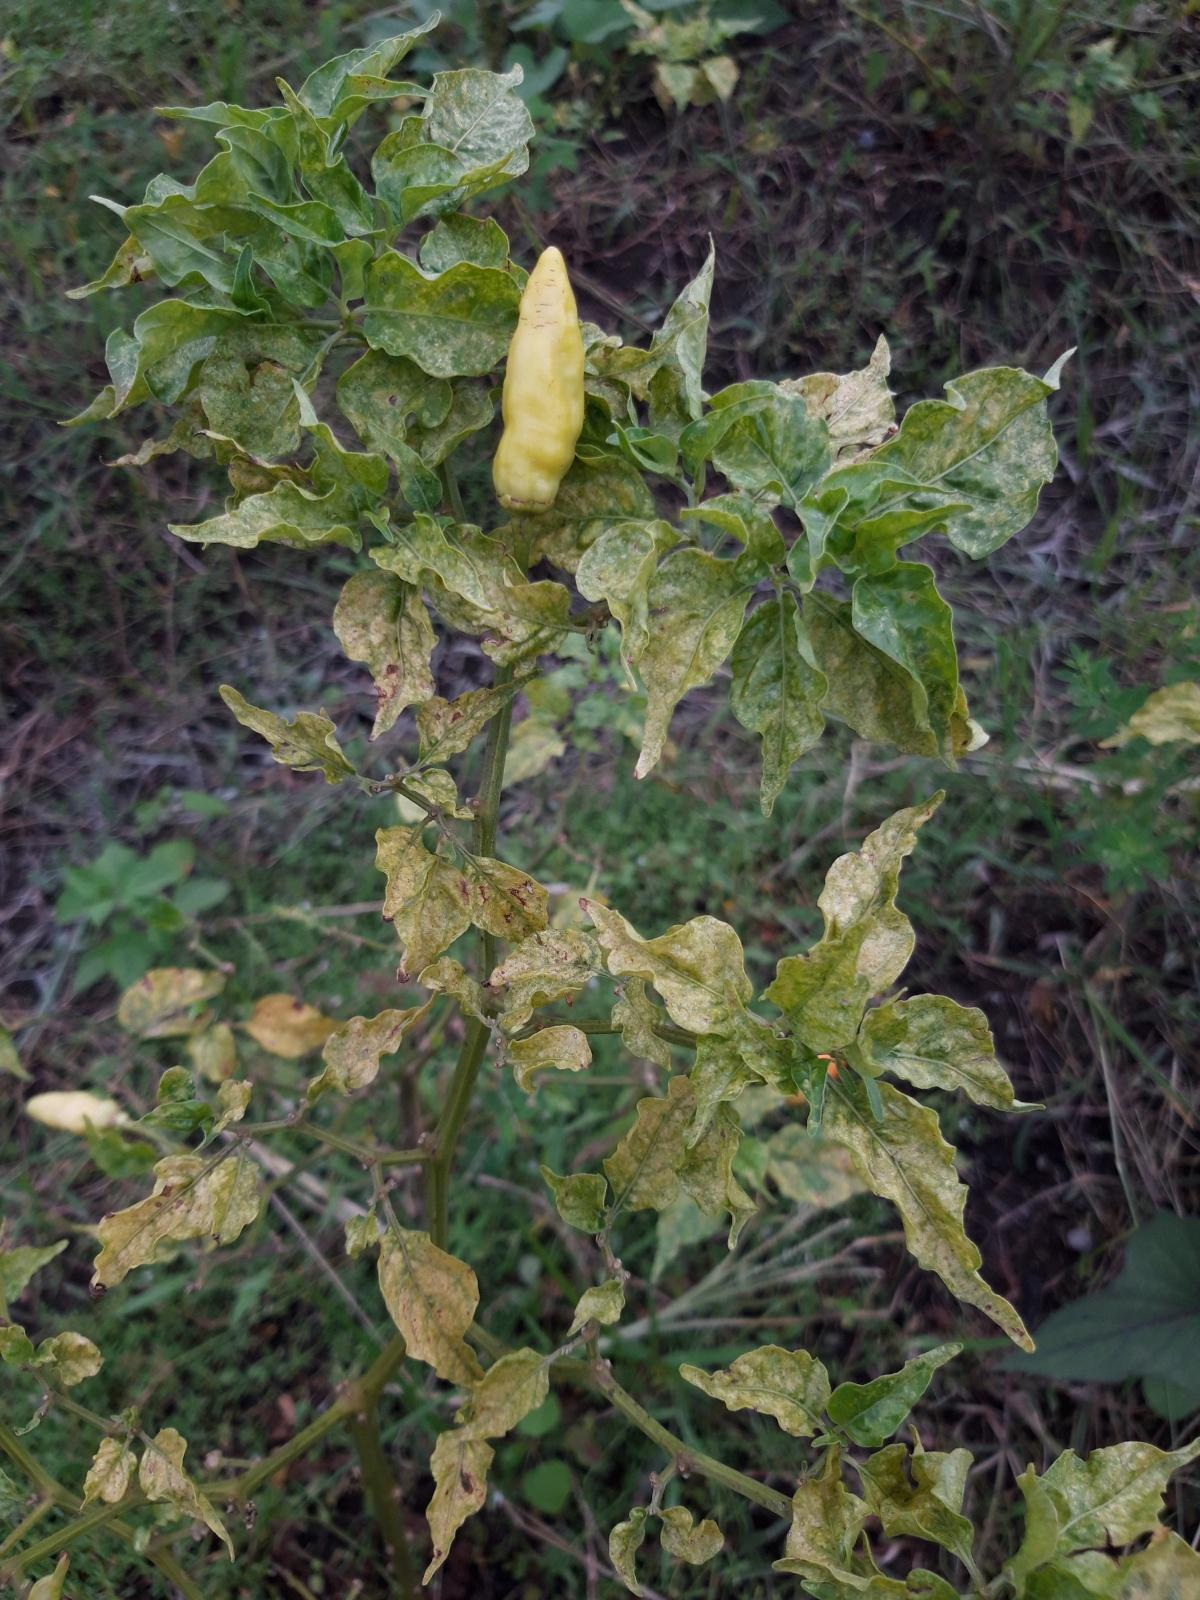cabai_normal: (492, 246, 585, 506)
